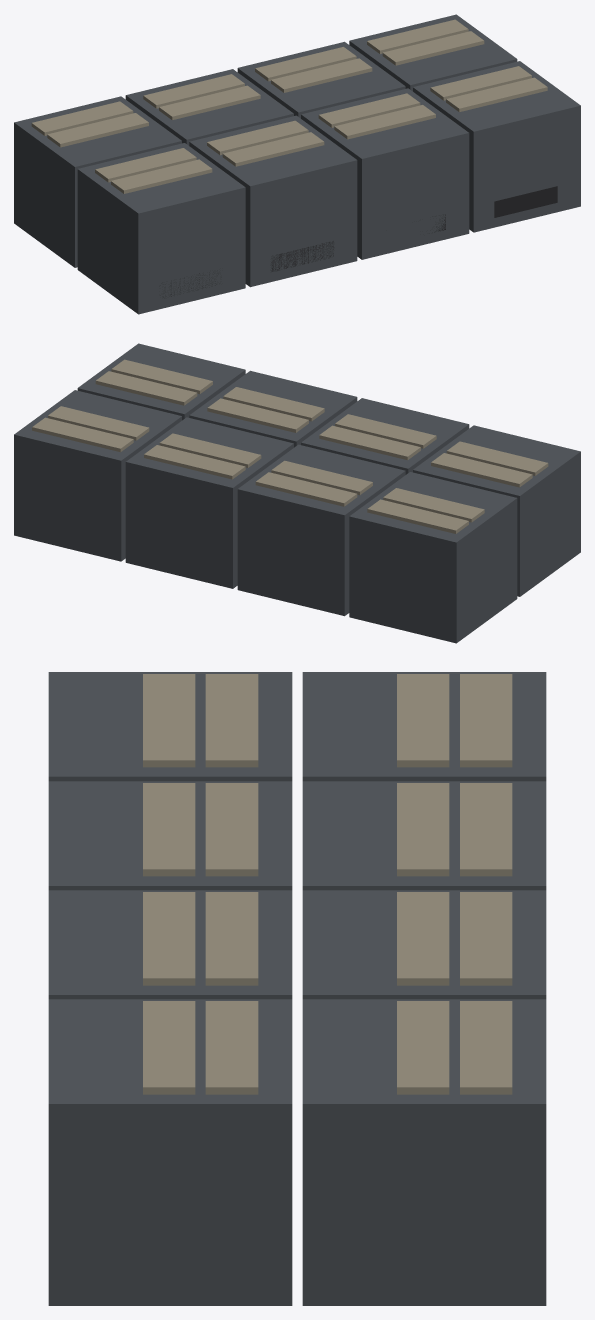
Rendered from vge_station_equipment_block.obj.
3 views of the same model, one above another, from view 1: azimuth 30°, elevation 25°; view 2: azimuth 150°, elevation 25°; view 3: azimuth 270°, elevation 25° (orthographic). The views are drawn at different scales.
Visible parts, largest first — view 1: vge_station_equipment_block_0, vge_station_equipment_block_8, vge_station_equipment_block_16, vge_station_equipment_block_24, vge_station_equipment_block_4, vge_station_equipment_block_12, vge_station_equipment_block_28, vge_station_equipment_block_20, vge_station_equipment_block_9, vge_station_equipment_block_21, vge_station_equipment_block_25, vge_station_equipment_block_5 (+14 smaller); view 2: vge_station_equipment_block_4, vge_station_equipment_block_12, vge_station_equipment_block_20, vge_station_equipment_block_28, vge_station_equipment_block_0, vge_station_equipment_block_8, vge_station_equipment_block_16, vge_station_equipment_block_24, vge_station_equipment_block_14, vge_station_equipment_block_26, vge_station_equipment_block_18, vge_station_equipment_block_6 (+12 smaller); view 3: vge_station_equipment_block_24, vge_station_equipment_block_28, vge_station_equipment_block_0, vge_station_equipment_block_4, vge_station_equipment_block_8, vge_station_equipment_block_12, vge_station_equipment_block_16, vge_station_equipment_block_20, vge_station_equipment_block_18, vge_station_equipment_block_26, vge_station_equipment_block_2, vge_station_equipment_block_10 (+12 smaller).
Boxes of the visible parts, box(x1,y1,x2,y2) form: vge_station_equipment_block_0: box(77, 143, 245, 314); vge_station_equipment_block_8: box(189, 115, 357, 287); vge_station_equipment_block_16: box(301, 88, 469, 259); vge_station_equipment_block_24: box(413, 61, 580, 232); vge_station_equipment_block_4: box(14, 96, 181, 267); vge_station_equipment_block_12: box(125, 69, 293, 145); vge_station_equipment_block_28: box(349, 14, 517, 91); vge_station_equipment_block_20: box(237, 41, 405, 118); vge_station_equipment_block_9: box(222, 132, 324, 166); vge_station_equipment_block_21: box(271, 58, 372, 92); vge_station_equipment_block_25: box(446, 77, 547, 112); vge_station_equipment_block_5: box(47, 113, 148, 147); vge_station_equipment_block_4: box(349, 472, 517, 643); vge_station_equipment_block_12: box(237, 444, 405, 616); vge_station_equipment_block_20: box(125, 417, 293, 588); vge_station_equipment_block_28: box(14, 390, 181, 561); vge_station_equipment_block_0: box(413, 425, 580, 596); vge_station_equipment_block_8: box(301, 398, 469, 474); vge_station_equipment_block_16: box(189, 370, 357, 447); vge_station_equipment_block_24: box(77, 343, 245, 420); vge_station_equipment_block_14: box(255, 472, 357, 506); vge_station_equipment_block_26: box(95, 371, 197, 405); vge_station_equipment_block_18: box(207, 398, 308, 432); vge_station_equipment_block_6: box(367, 499, 468, 533); vge_station_equipment_block_24: box(48, 999, 292, 1305); vge_station_equipment_block_28: box(302, 999, 546, 1305); vge_station_equipment_block_0: box(48, 672, 292, 781); vge_station_equipment_block_4: box(302, 672, 546, 781); vge_station_equipment_block_8: box(48, 781, 292, 890); vge_station_equipment_block_12: box(302, 781, 546, 890); vge_station_equipment_block_16: box(48, 890, 292, 999); vge_station_equipment_block_20: box(302, 890, 546, 999); vge_station_equipment_block_18: box(205, 892, 258, 985); vge_station_equipment_block_26: box(205, 1001, 258, 1094); vge_station_equipment_block_2: box(205, 674, 258, 767); vge_station_equipment_block_10: box(205, 783, 258, 876).
Size of the model in its own units: 3.9 by 0.88 by 1.9.
